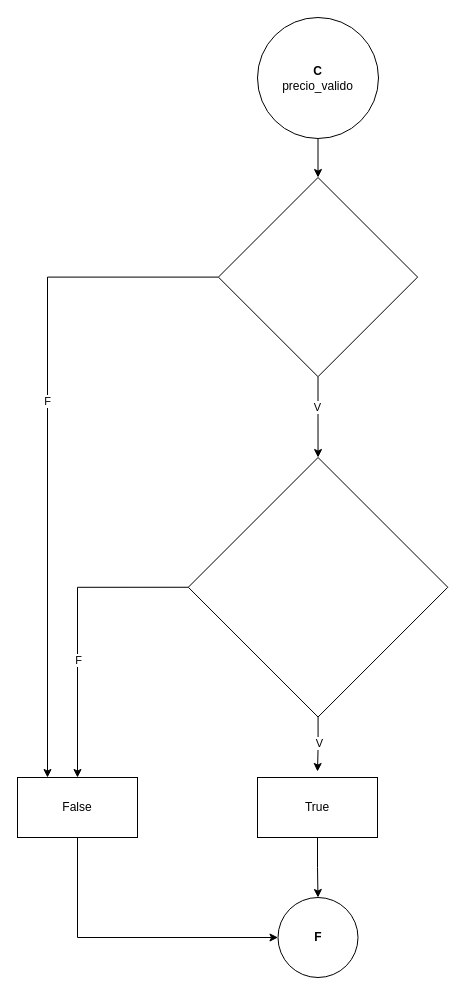
This 466x995 diagram has some shape labels left out. Each missing label, with the centre of its shape:
precio_del_componente >= 10.00 and precio_del_componente <= 999.99: pixel 317 586
precio_del_componente es número flotante: pixel 317 276
